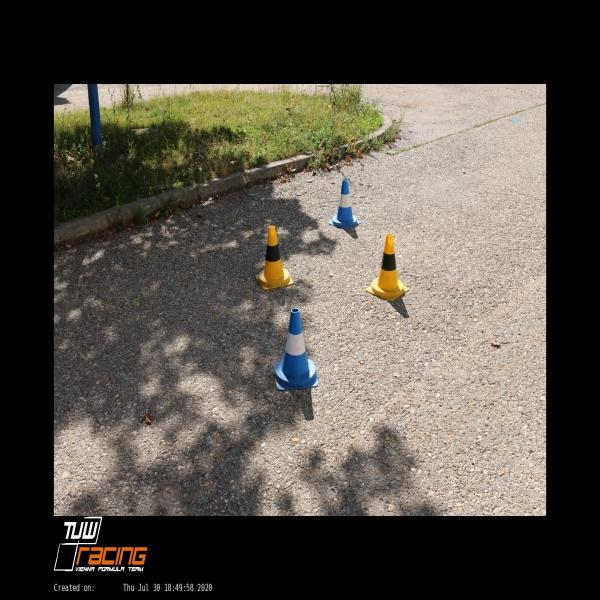blue_cone: (274, 308, 318, 390), (328, 179, 361, 230)
yellow_cone: (366, 234, 408, 302), (255, 226, 293, 289)
